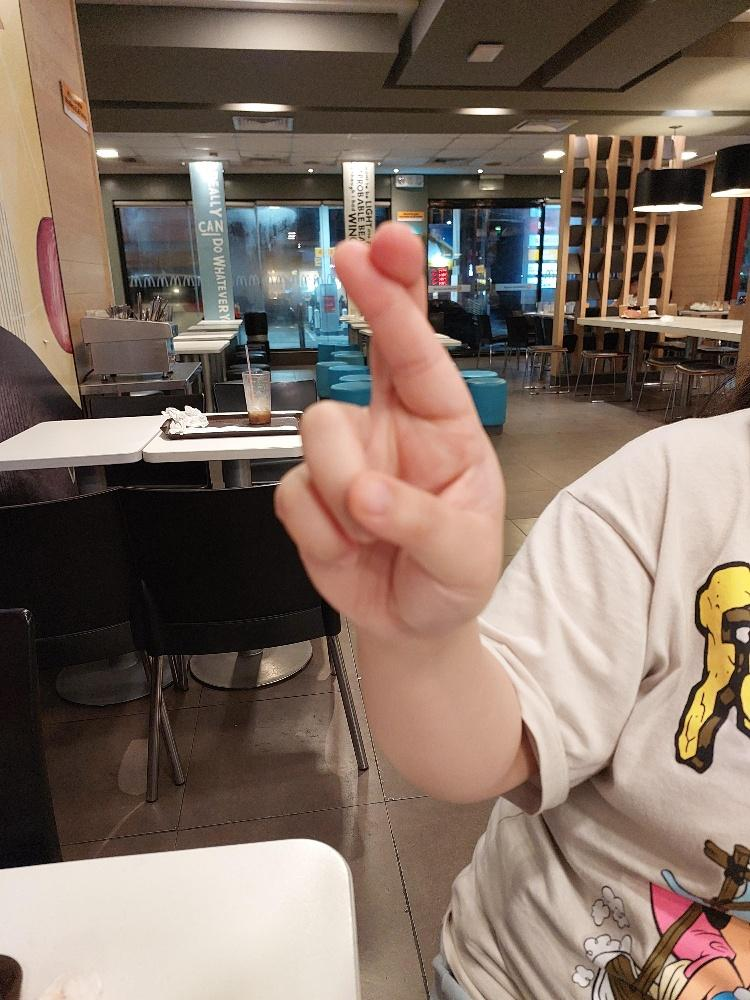r: (271, 217, 506, 636)
